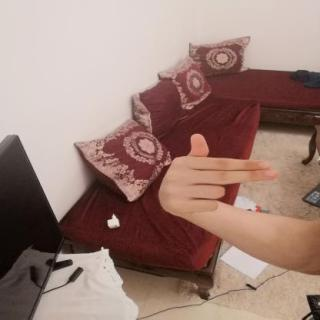GHAYN: (148, 128, 287, 224)
